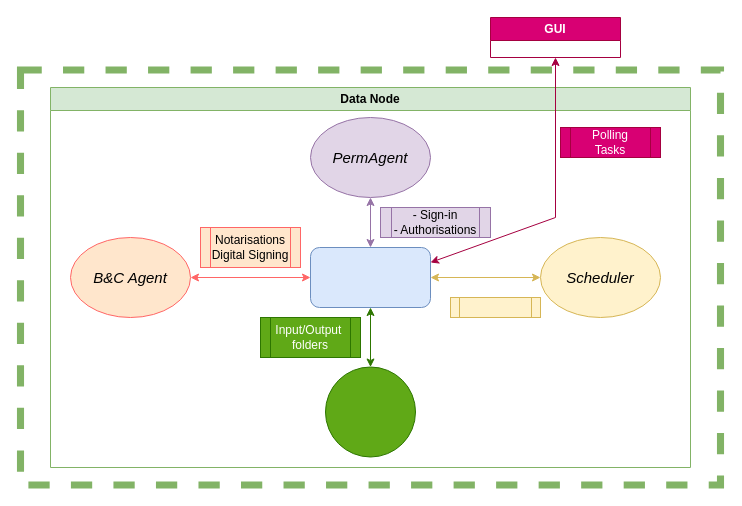
Some shapes in this 742 by 506 pixel diagram are drawn without their labels. The shapes that lost their labels are listed below. From the top down, each one's box as (x1, y1, x2, y2) in pixels, then its label:
(310, 246, 430, 308): Proxy
(450, 296, 540, 318): Scheduling
(324, 366, 416, 457): Processor
